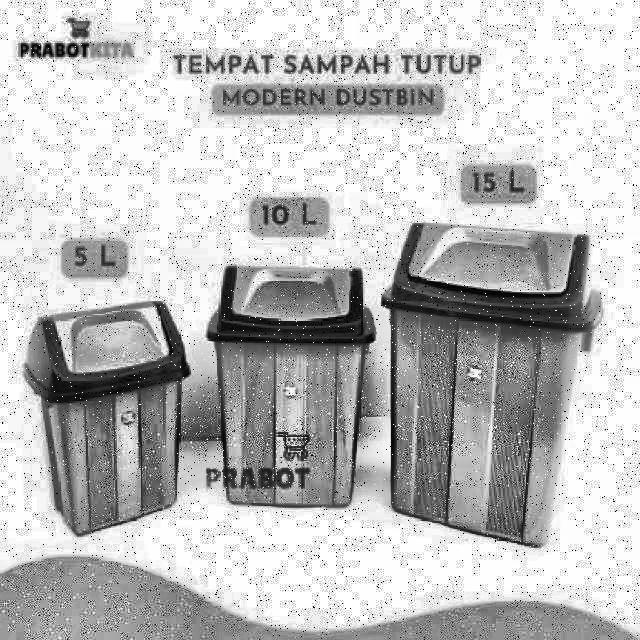Dustbin: (376, 215, 609, 562), (202, 260, 378, 522), (18, 290, 198, 542)
